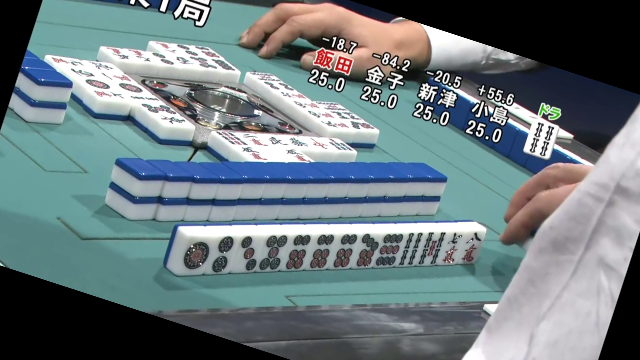Tehai: (177, 223, 491, 273)
